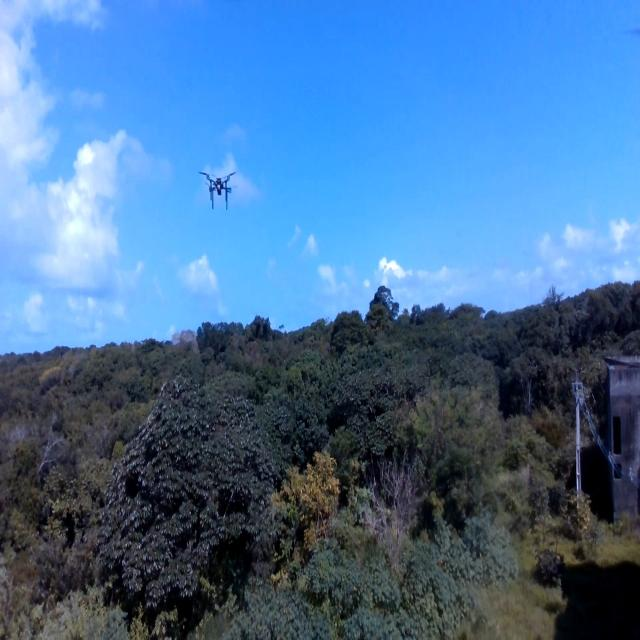-uav-: (194, 159, 242, 217)
